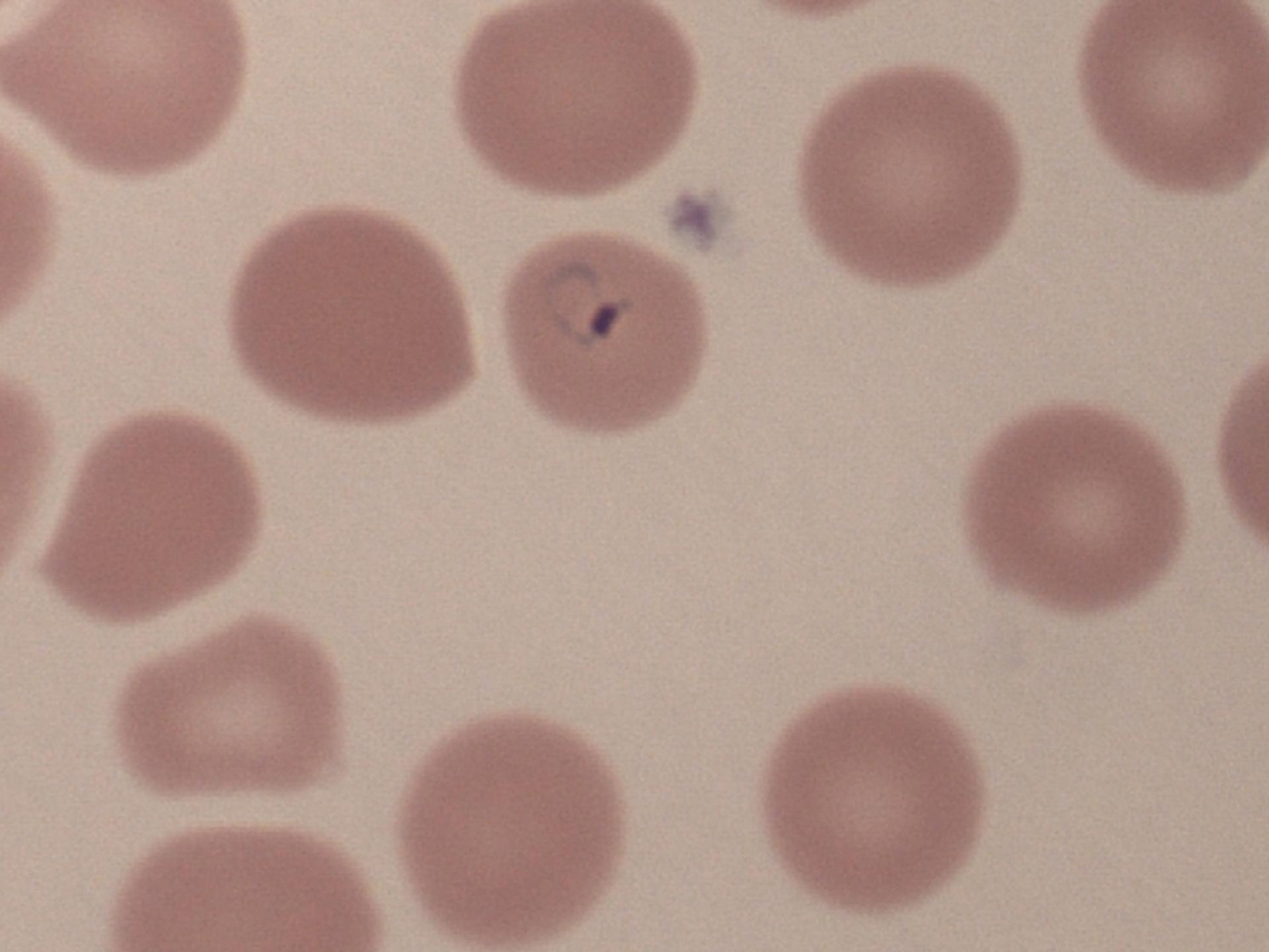Infected: (503, 235, 708, 437)
Uninfected: (230, 203, 481, 425), (399, 720, 621, 949), (795, 65, 1021, 285), (763, 684, 984, 907), (454, 0, 699, 198), (31, 407, 256, 622), (967, 400, 1186, 609), (0, 0, 244, 178), (116, 618, 344, 799), (1077, 0, 1269, 191), (112, 820, 383, 952)
